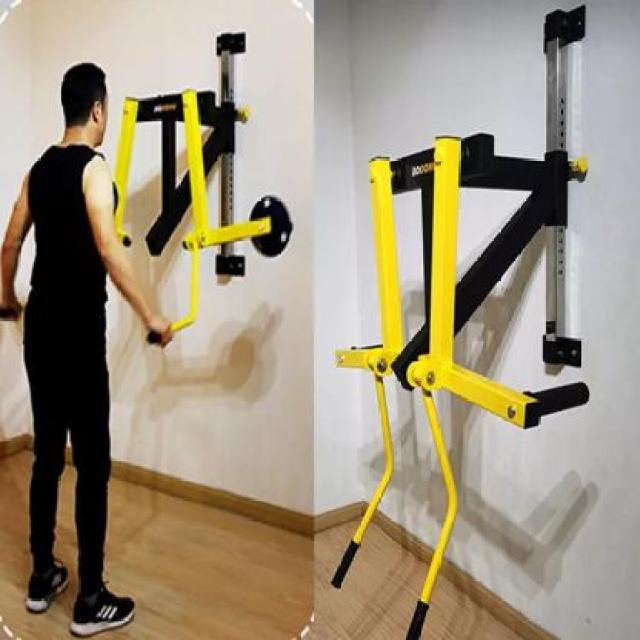lateral raises machine: (324, 4, 598, 640), (112, 30, 297, 348)
